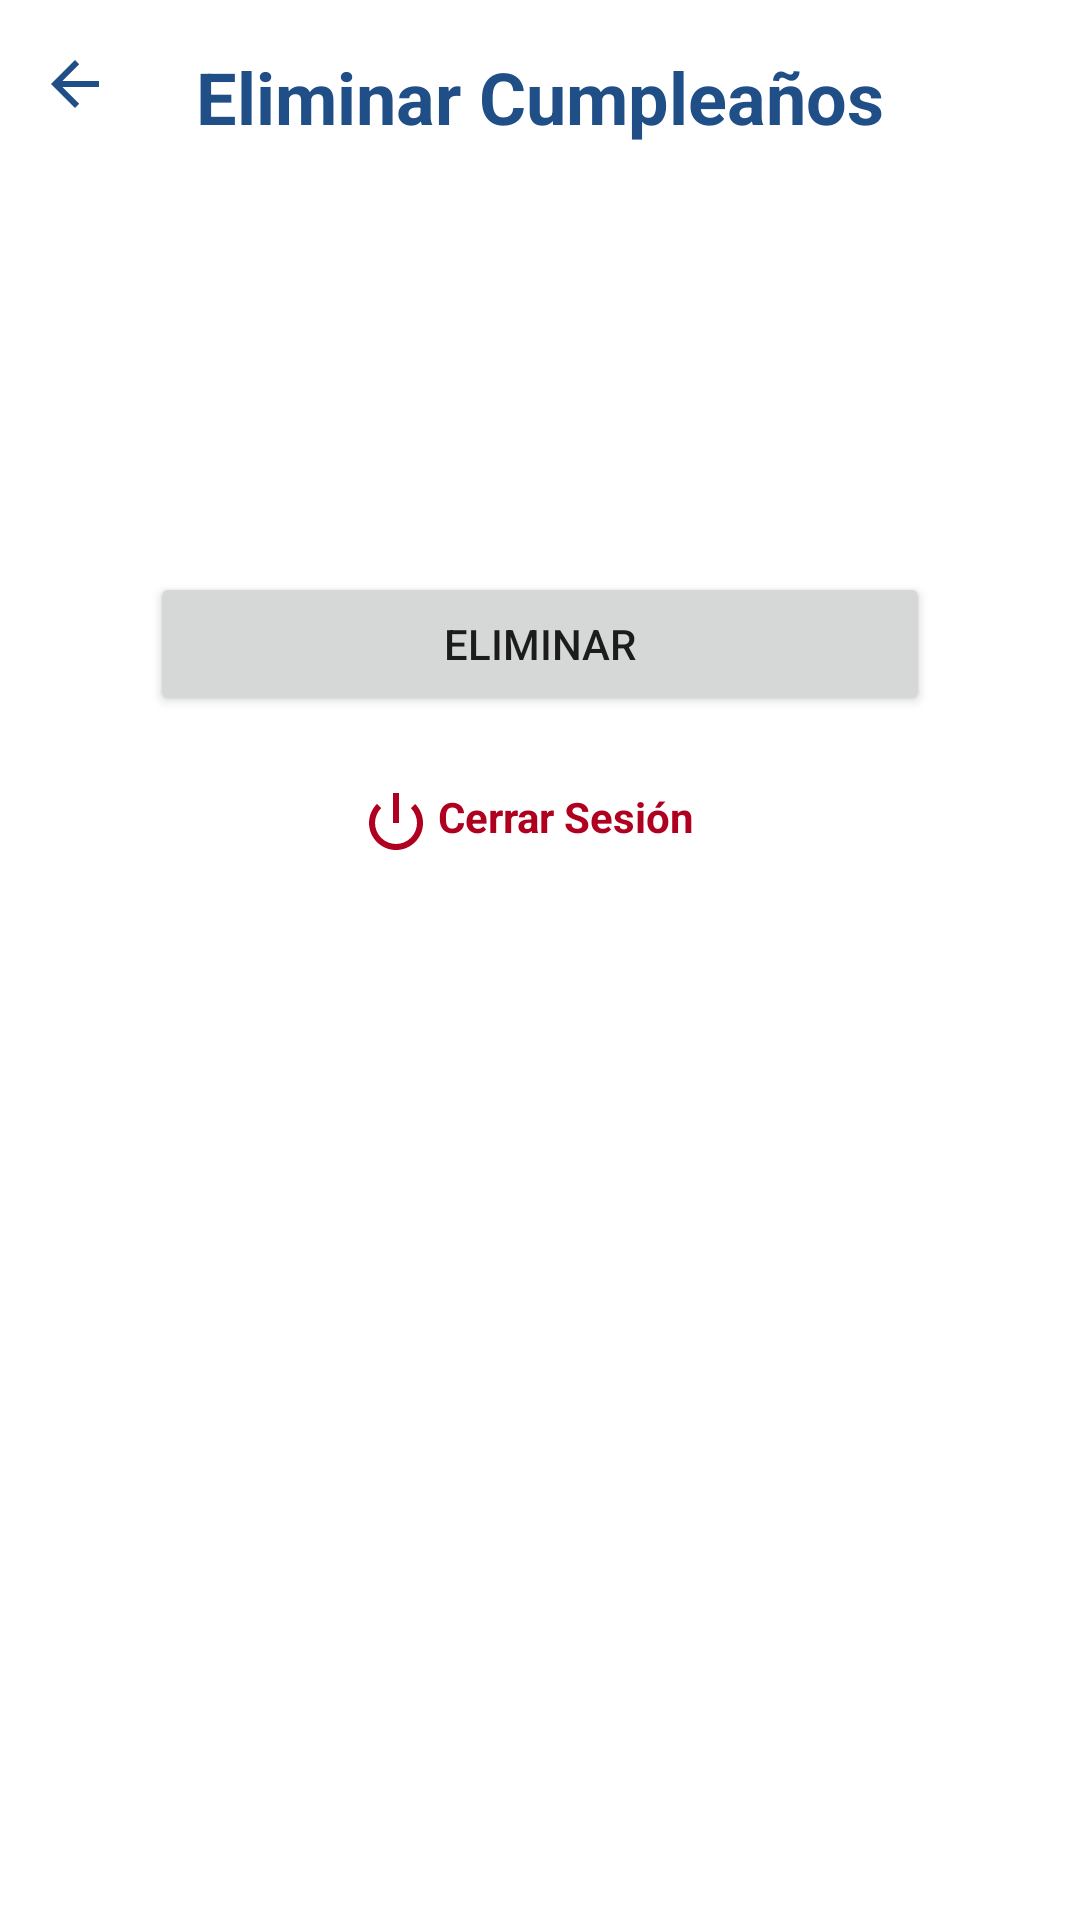

Icons on this 1080 × 1920 Android screen, each with the point to tap as (x=x, y=y):
image button volver: (x=75, y=84)
